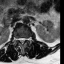CCS_normal: (21, 34, 23, 47)
LFS_stenosis: (26, 35, 28, 42)
LLS_normal: (23, 35, 26, 43)
RFS_normal: (15, 34, 18, 43)
RLS_normal: (18, 35, 21, 44)
